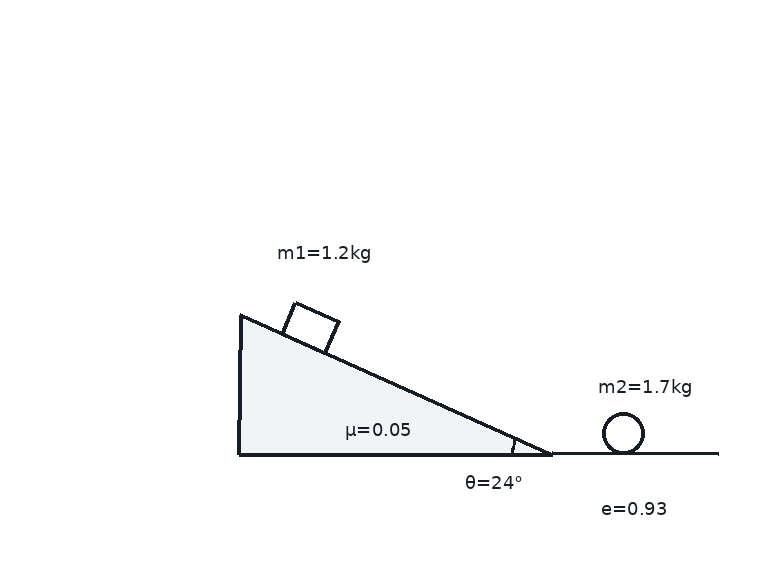ball: (600, 410, 646, 456)
block: (280, 301, 340, 355)
ramp: (238, 313, 554, 456)
